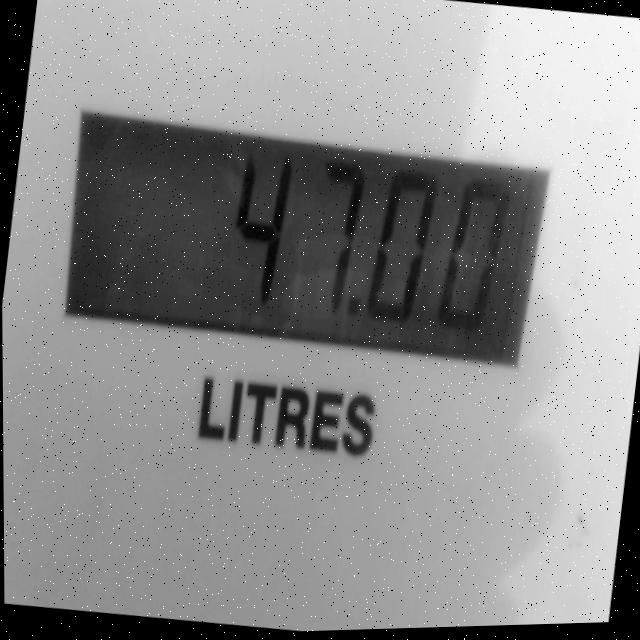.: (346, 285, 367, 359)
0: (359, 156, 446, 344), (432, 173, 516, 349)
4: (217, 146, 305, 349)
7: (301, 147, 367, 316)
